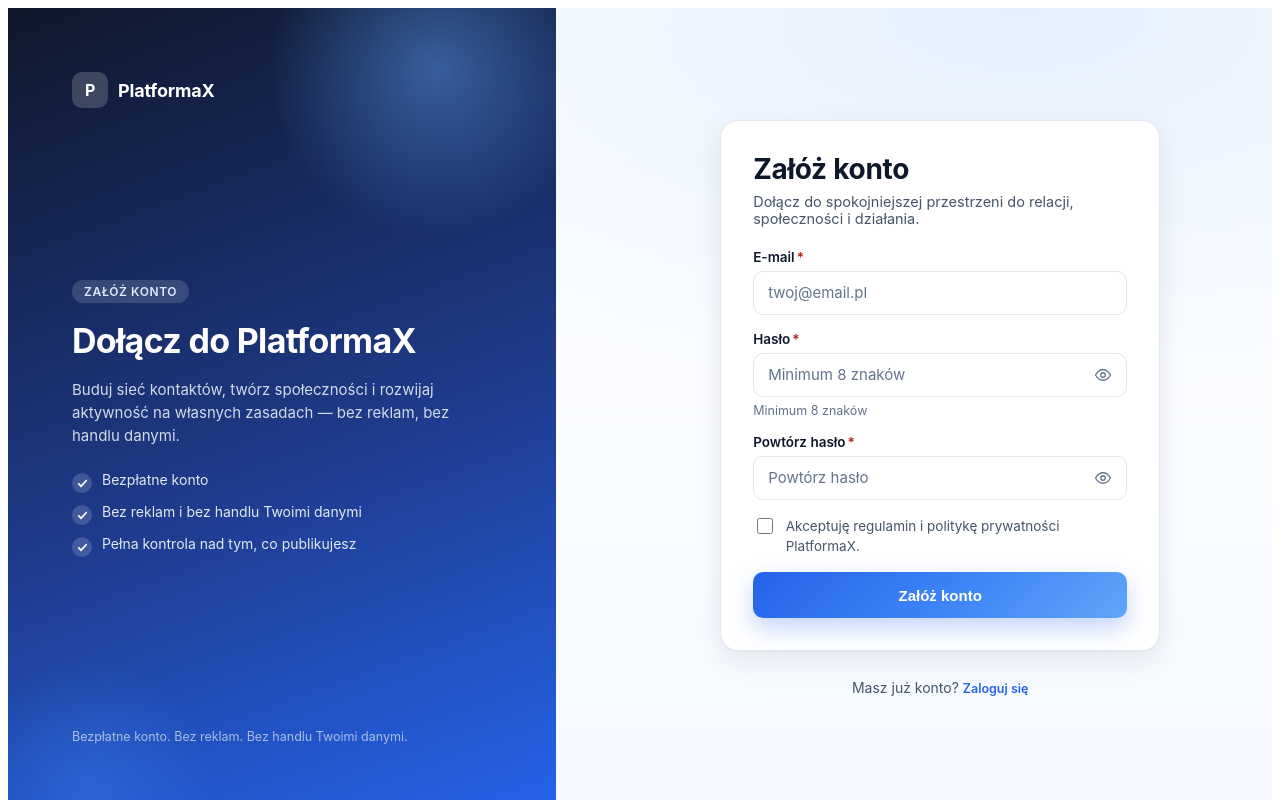
Test: RegisterRoute › renders a safe error from the adapter and does not navigate
Step 1. Type "anna@example.org" into the field labelled "E-mail*" → (940, 292), box [753,270,1127,314]
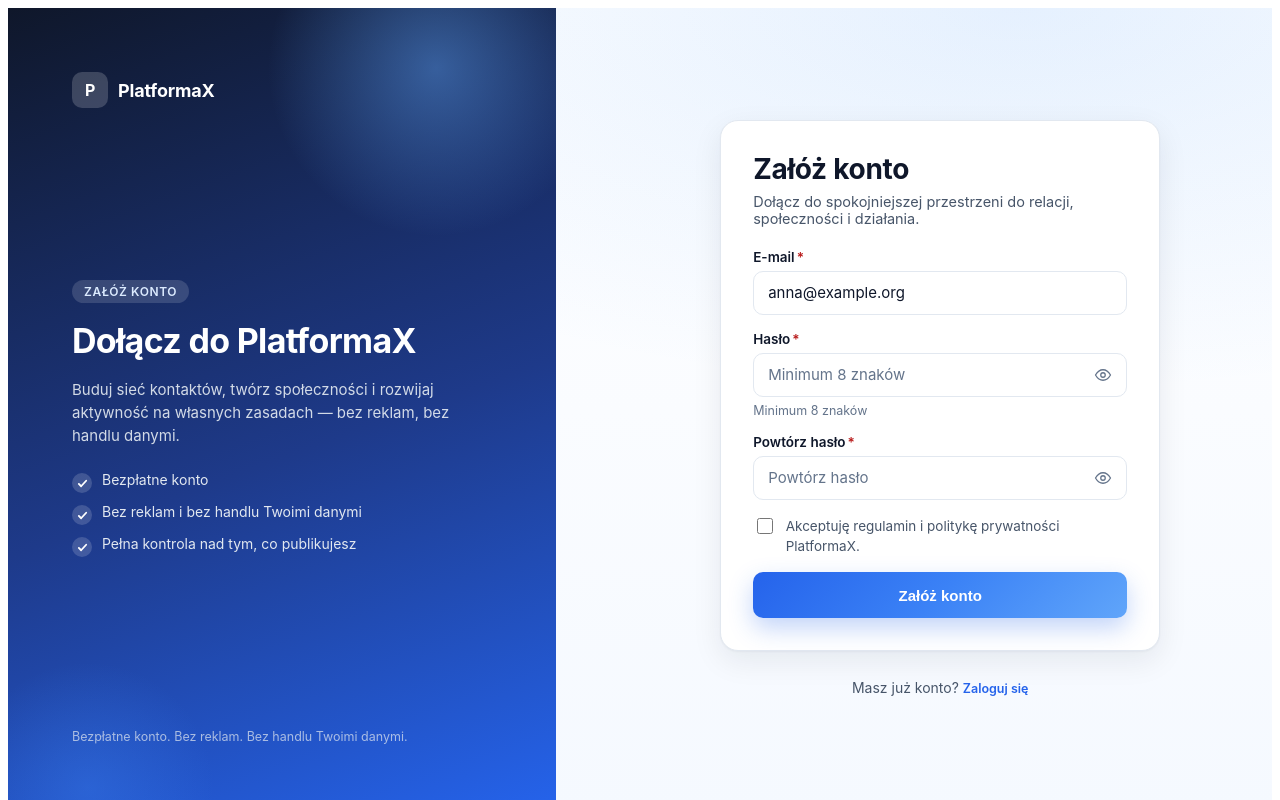
Step 2. Type "haslo1234" into the password field labelled "Hasło*" → (940, 374), box [753,352,1127,396]
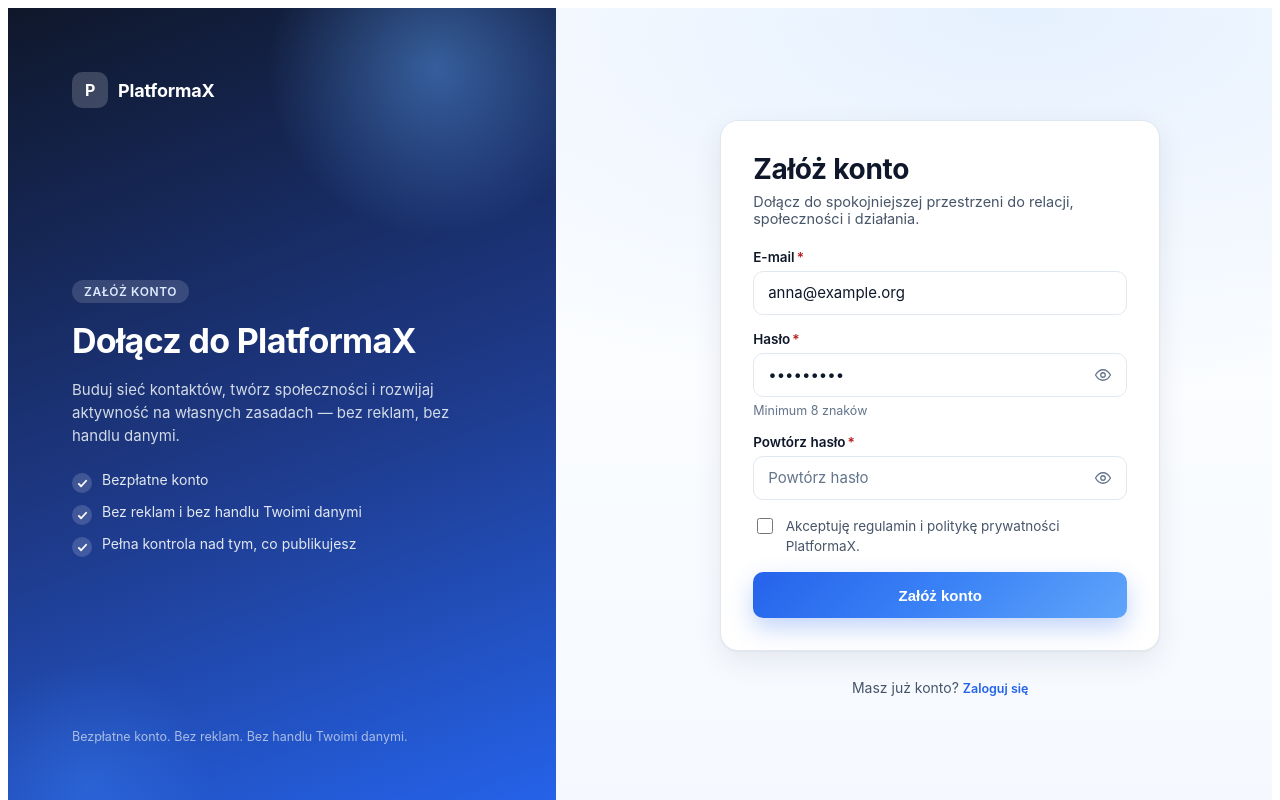
Step 3. Type "haslo1234" into the password field labelled "Powtórz hasło*" → (940, 478), box [753,456,1127,500]
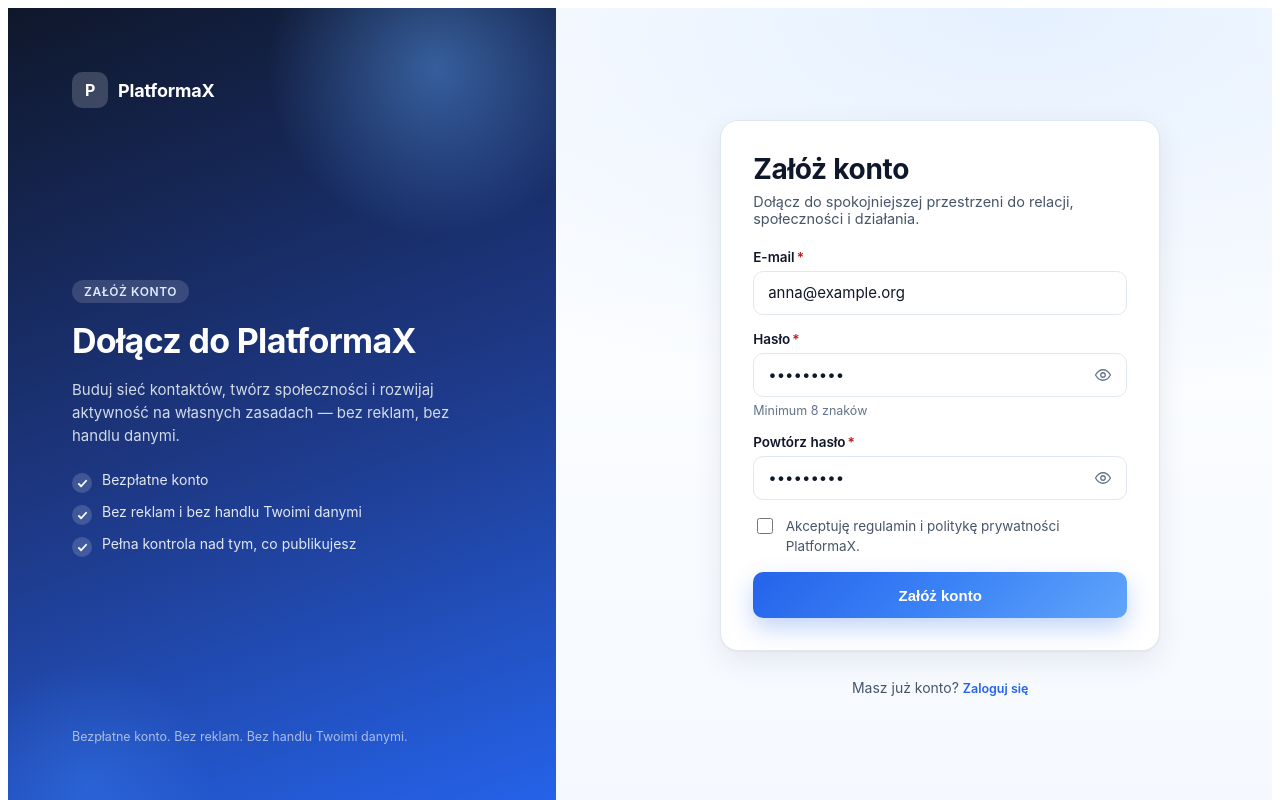
Step 4. Click the checkbox → (765, 526), box [757,518,773,534]
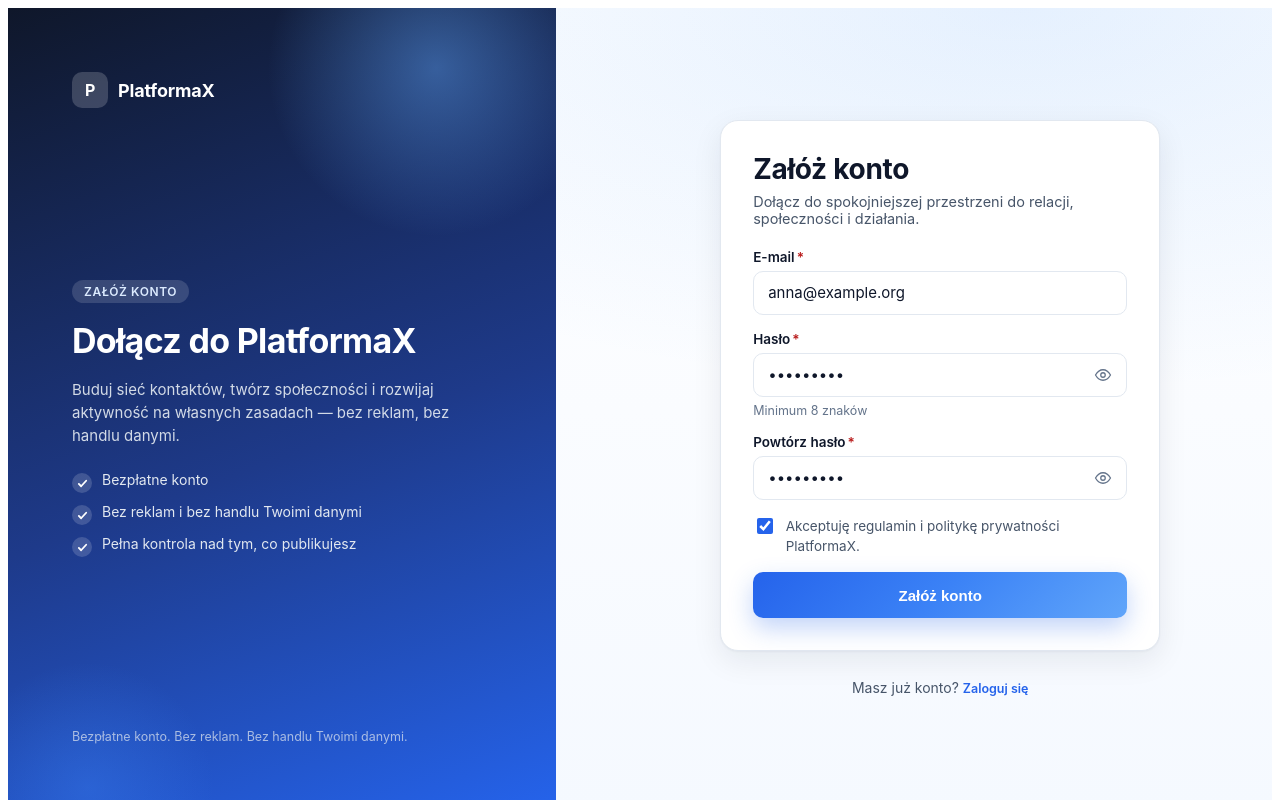
Step 5. Click the button "Załóż konto" → (940, 595), box [753,572,1127,618]
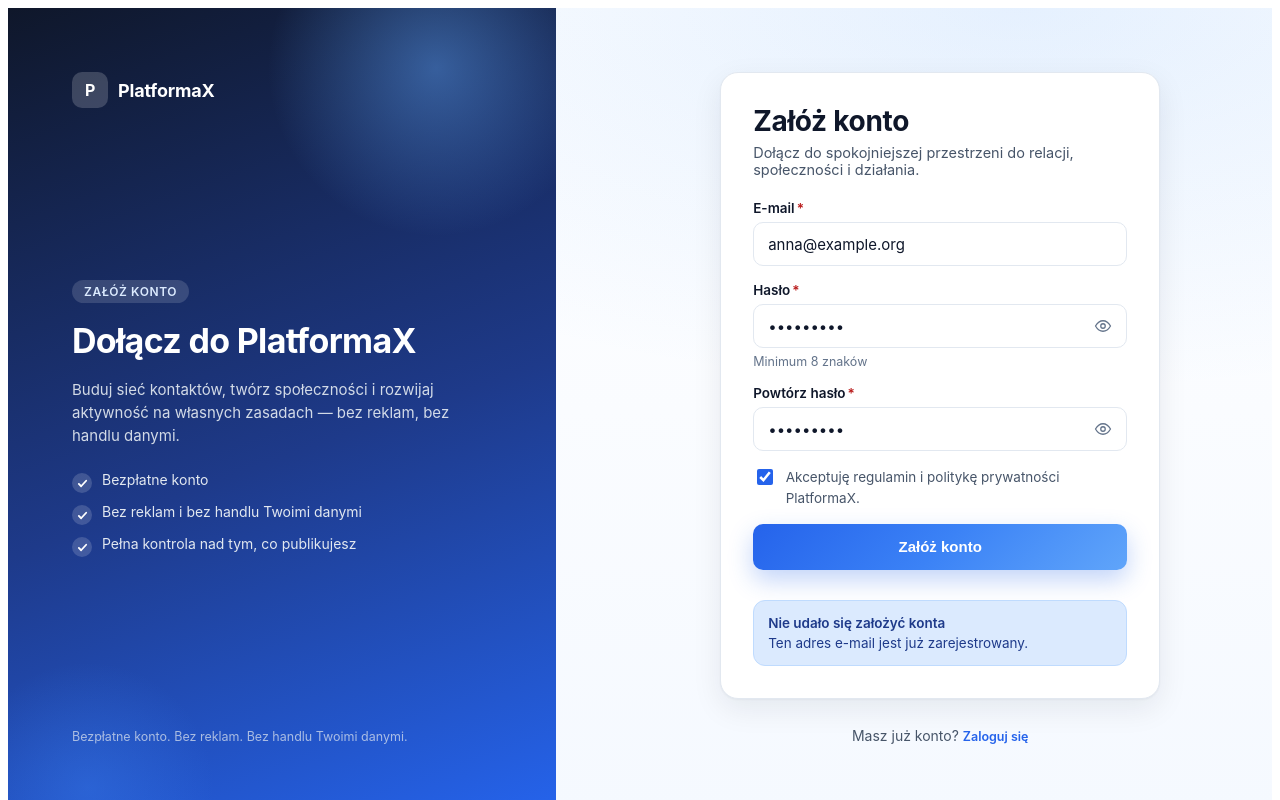
Now the text "Ten adres e-mail jest już zarejestrowany." is shown, box [768,635,1028,651]
